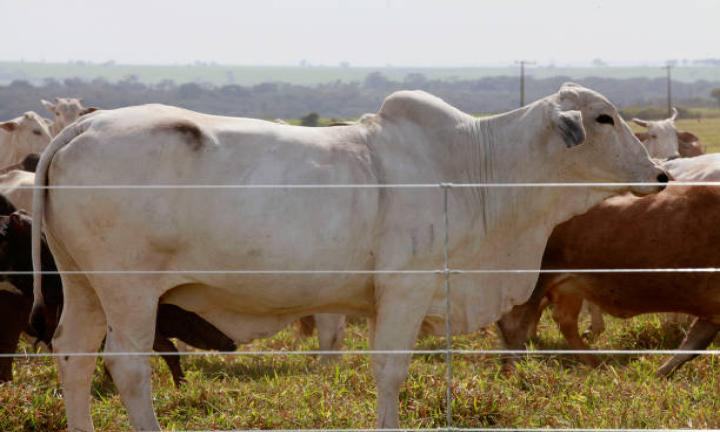Brahman: (33, 84, 666, 430)
